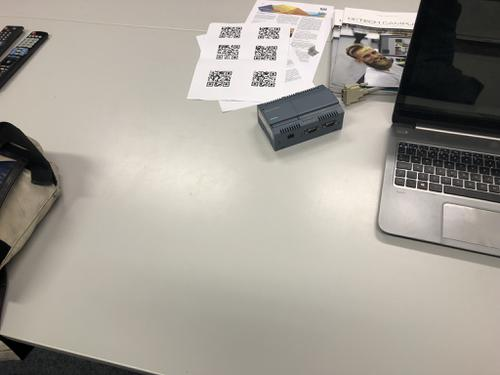device: (257, 85, 345, 152)
